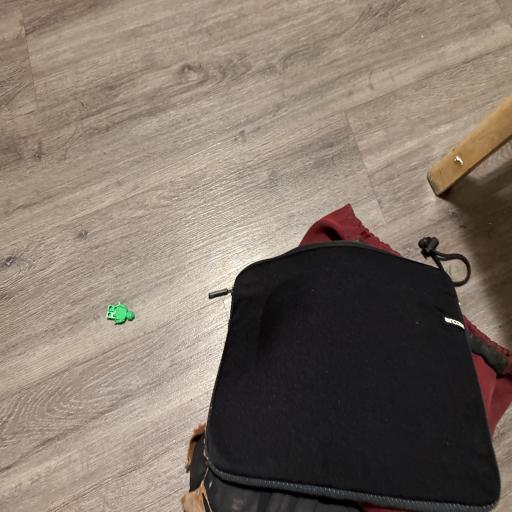Minifig: (106, 303, 135, 324)
